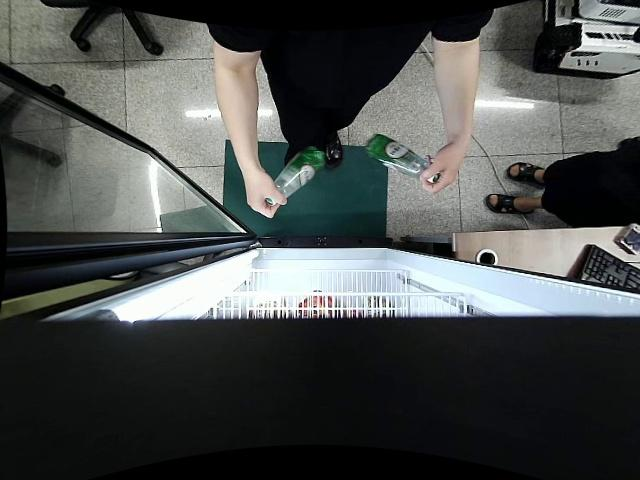00_hand: (243, 169, 287, 219), (419, 143, 463, 192)
18_trevi: (363, 133, 439, 184), (263, 146, 323, 207)
